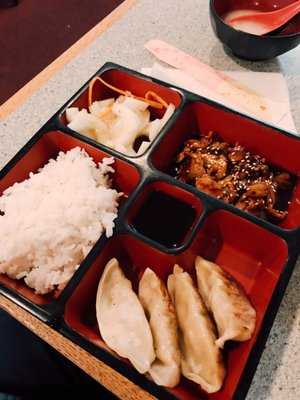sushi: (146, 101, 300, 241), (209, 0, 300, 62)
